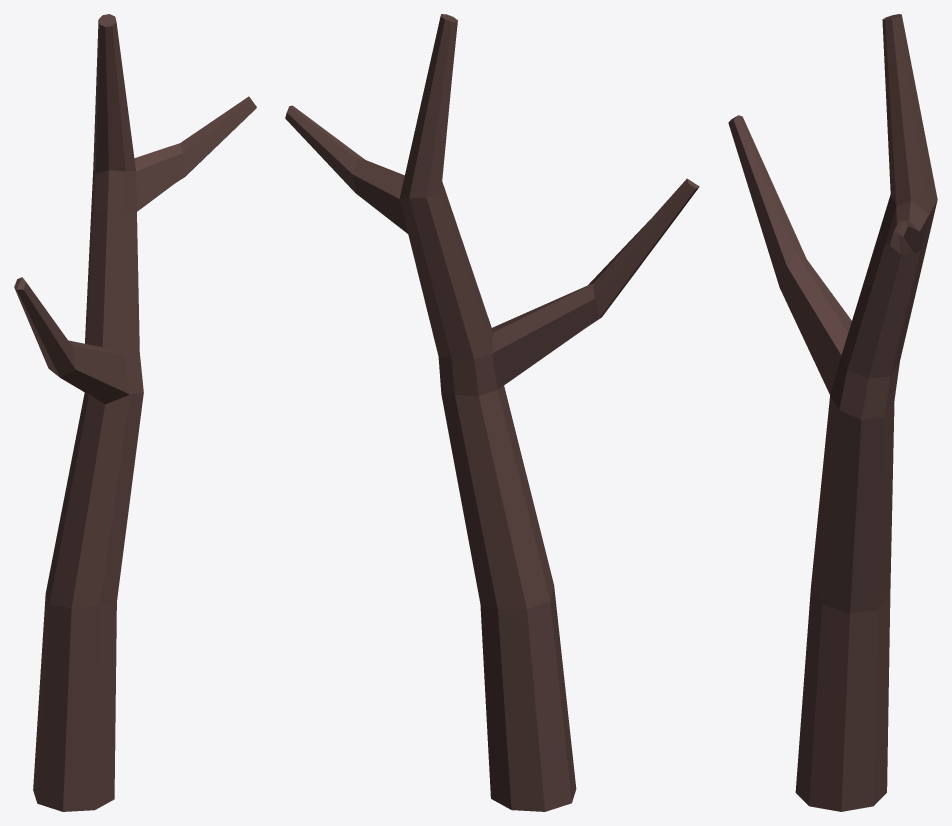
Rendered from SM_tree2.fbx.
3 renders of one model, left to right at view 1: azimuth 30°, elevation 25°; view 2: azimuth 150°, elevation 25°; view 3: azimuth 270°, elevation 25°, orthographic. The views are drawn at different scales.
Parts seen in each view (by area): view 1: SM_tree2; view 2: SM_tree2; view 3: SM_tree2.
Boxes of the visible parts, x1,y1,x2,y2 form: SM_tree2: [14, 14, 256, 811]; SM_tree2: [285, 14, 699, 811]; SM_tree2: [728, 14, 937, 811].
Bounding box in the file's own units: 205 × 460 × 108.
Materials: 1 (1 with a texture image).
